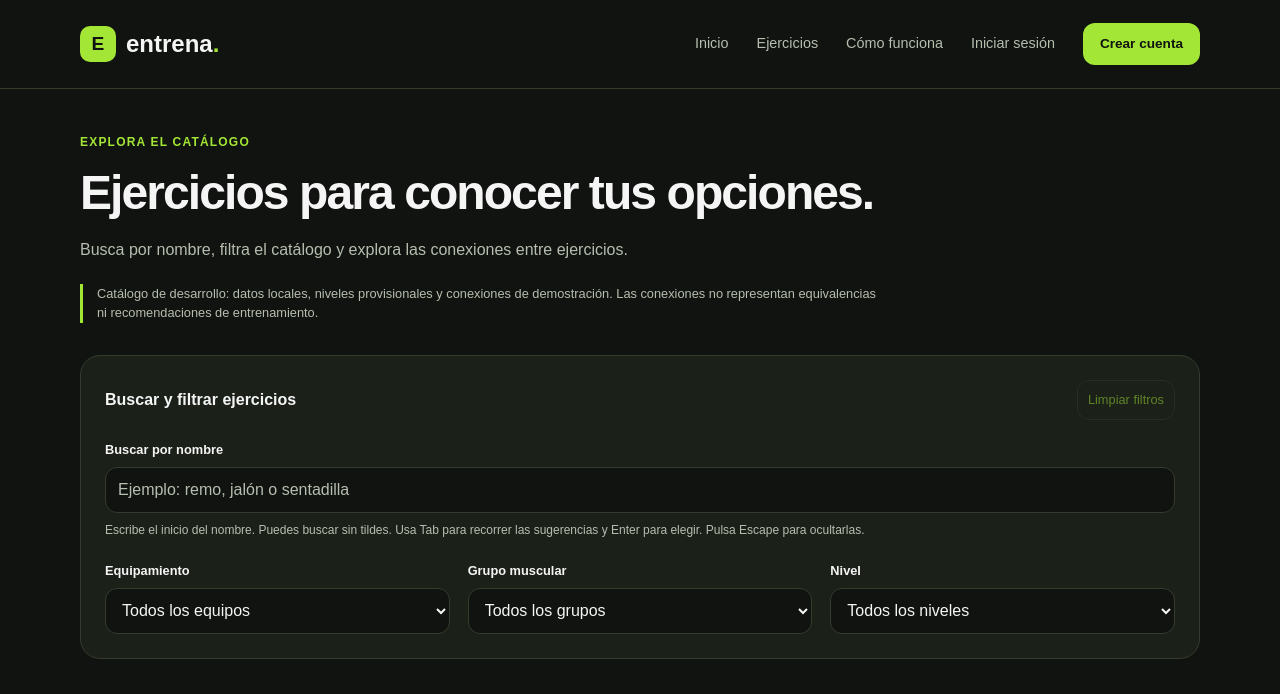
CatalogComponent › oculta las sugerencias al pulsar Escape
The image size is (1280, 694).
Type "re" into the search field with id "exercise-search" at (640, 490), box [105,467,1175,513]
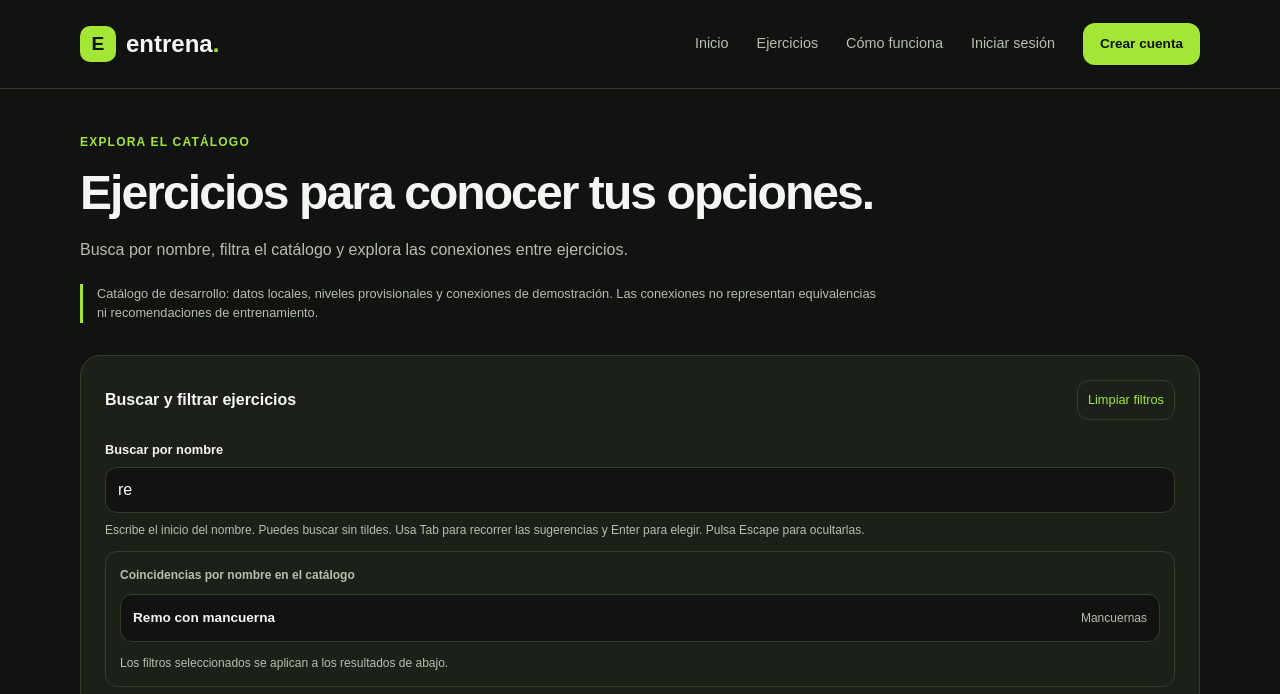
Press Escape in the search field with id "exercise-search", box [105,467,1175,513]
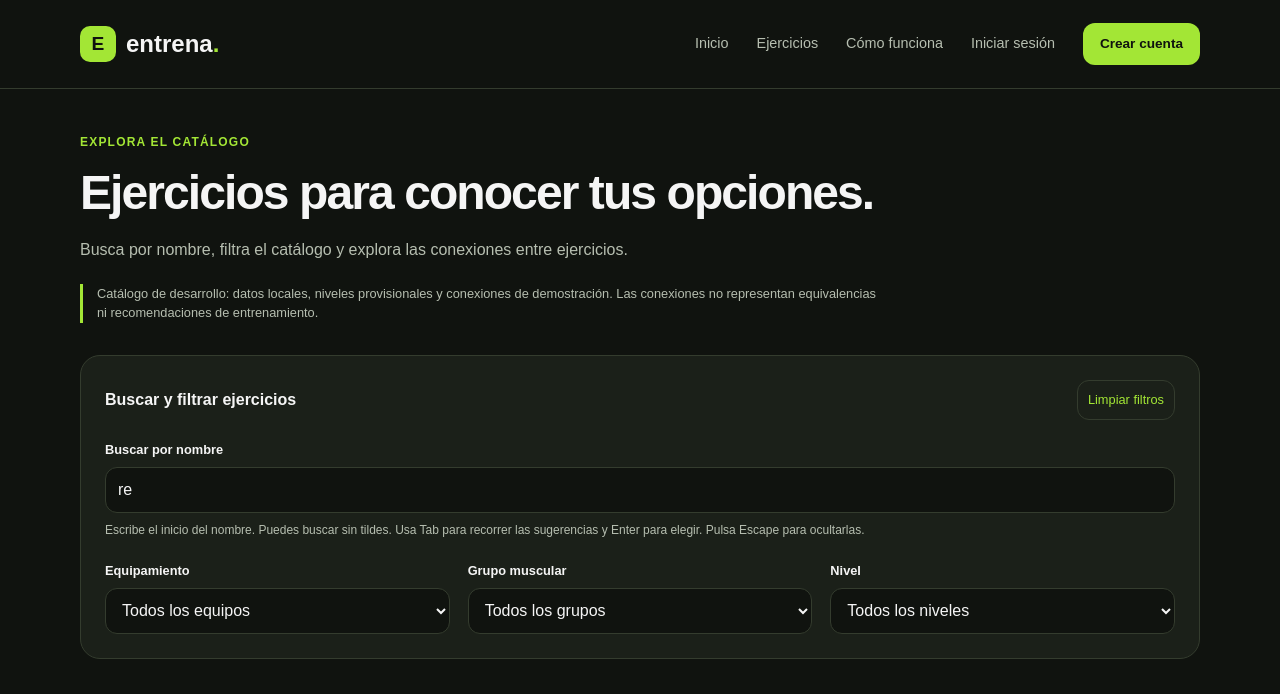
Result: the element with class "search-suggestions" is gone
